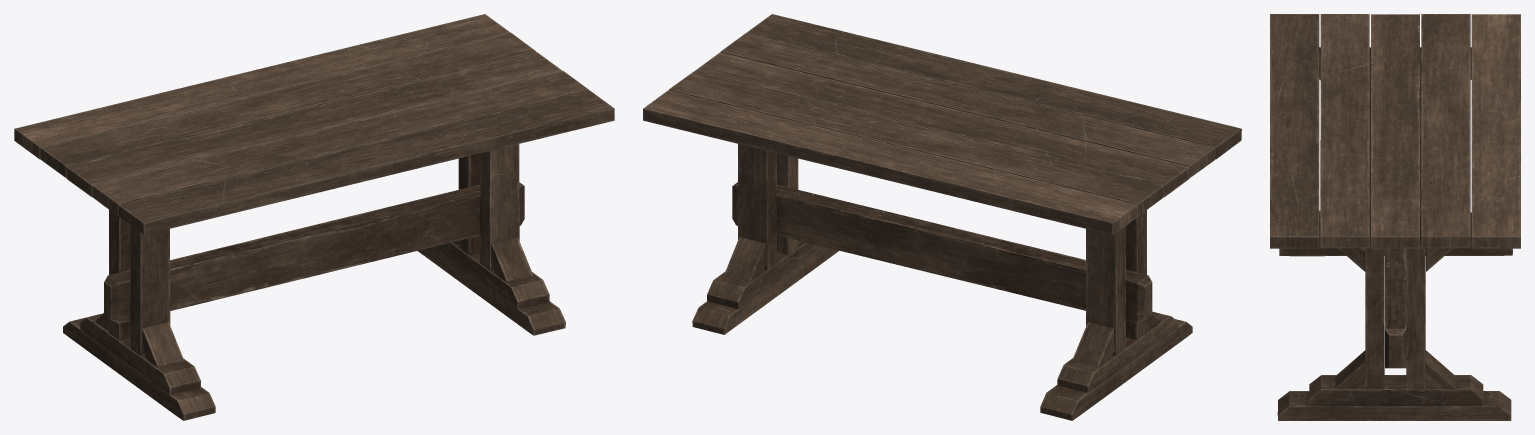
Rendered from TablLP.fbx.
The picture shows the model from 3 angles, left to right: view 1: azimuth 30°, elevation 25°; view 2: azimuth 150°, elevation 25°; view 3: azimuth 270°, elevation 25°; orthographic projection. The views are drawn at different scales.
Parts seen in each view (by area): view 1: Table; view 2: Table; view 3: Table.
Part boxes in pixels (x1,y1,x2,y2): Table: [14, 14, 614, 420]; Table: [643, 14, 1241, 420]; Table: [1270, 14, 1520, 420].
Size of the model in its own units: 199 by 85.64 by 94.64.
